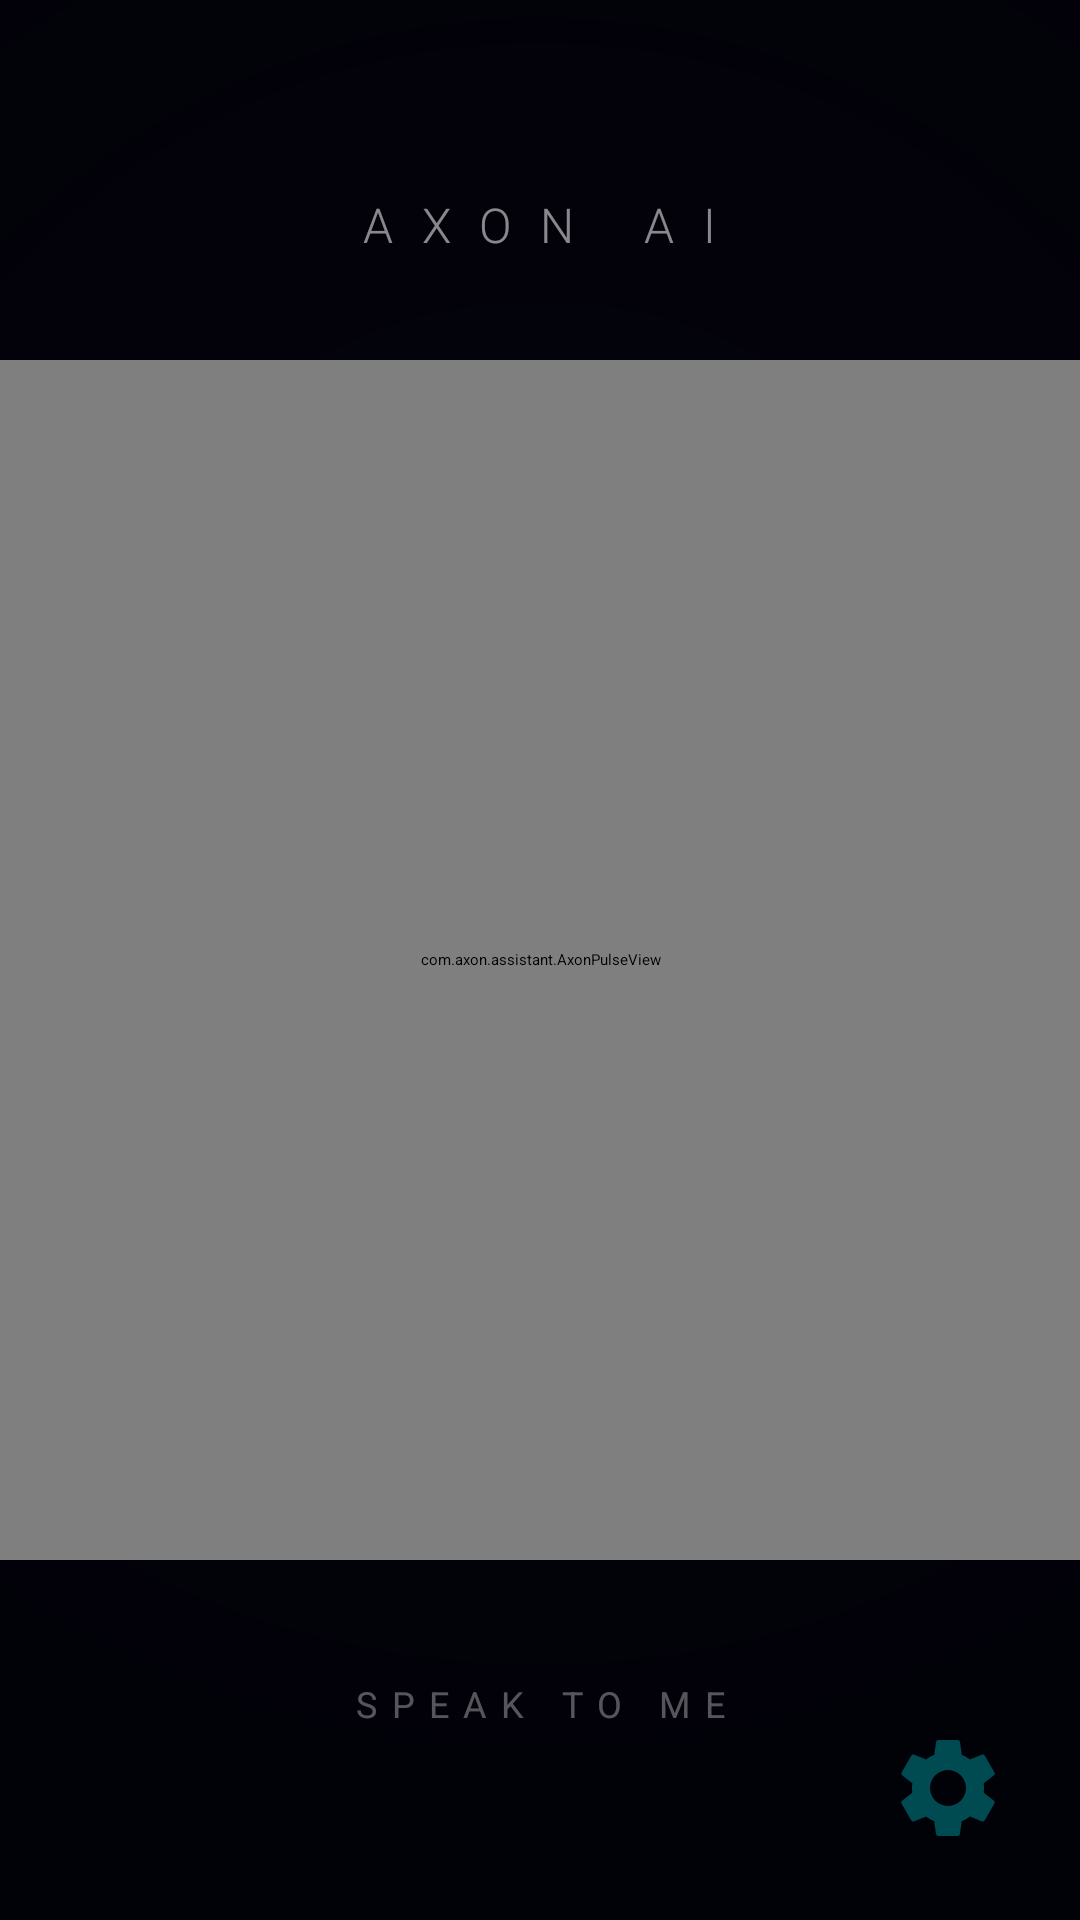

Icons on this 1080 x 1920 Android screen, each with its box as (left=x1, top=y1, right=x2, bottom=y2):
settings: (left=901, top=1740, right=995, bottom=1836)
